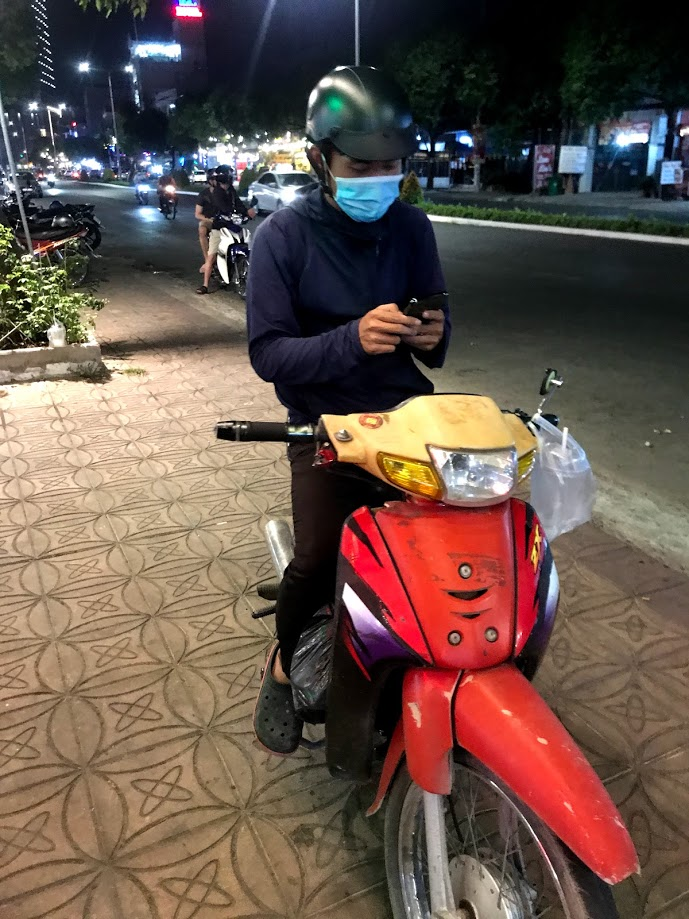dieu khien xe may: (296, 64, 558, 672)
su dung dien thoai: (309, 66, 452, 372)
